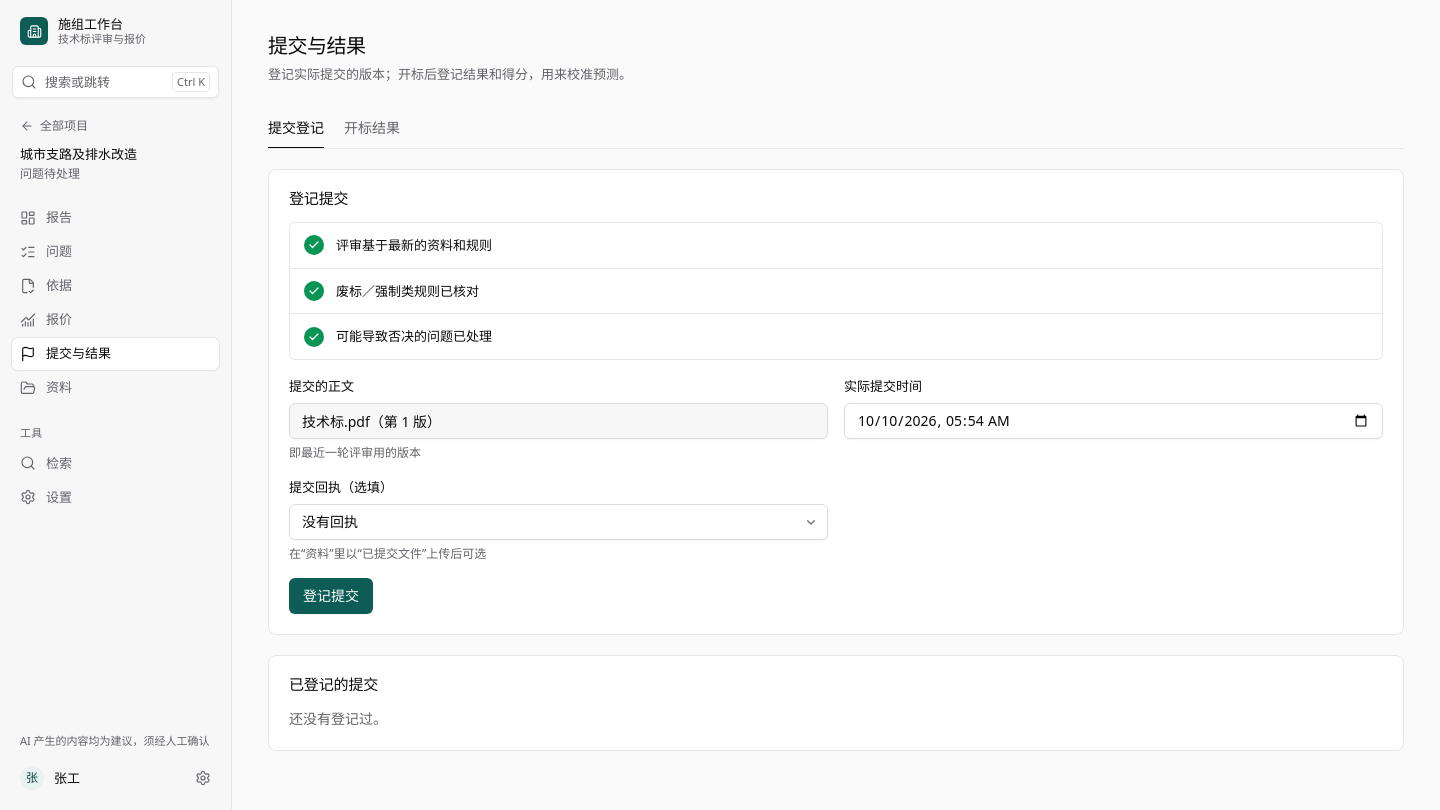
Test: 提交与结果页：登记提交 › 请求体符合 SubmissionRequest：正文与输入取最近一轮评审，不让用户另选
Expected: the field labelled "提交的正文" holds "技术标.pdf（第 1 版）", [289, 403, 828, 439]
Replace the text in the field labelled "实际提交时间" with "2026-10-05T10:00" at (1114, 421), box [844, 403, 1383, 439]
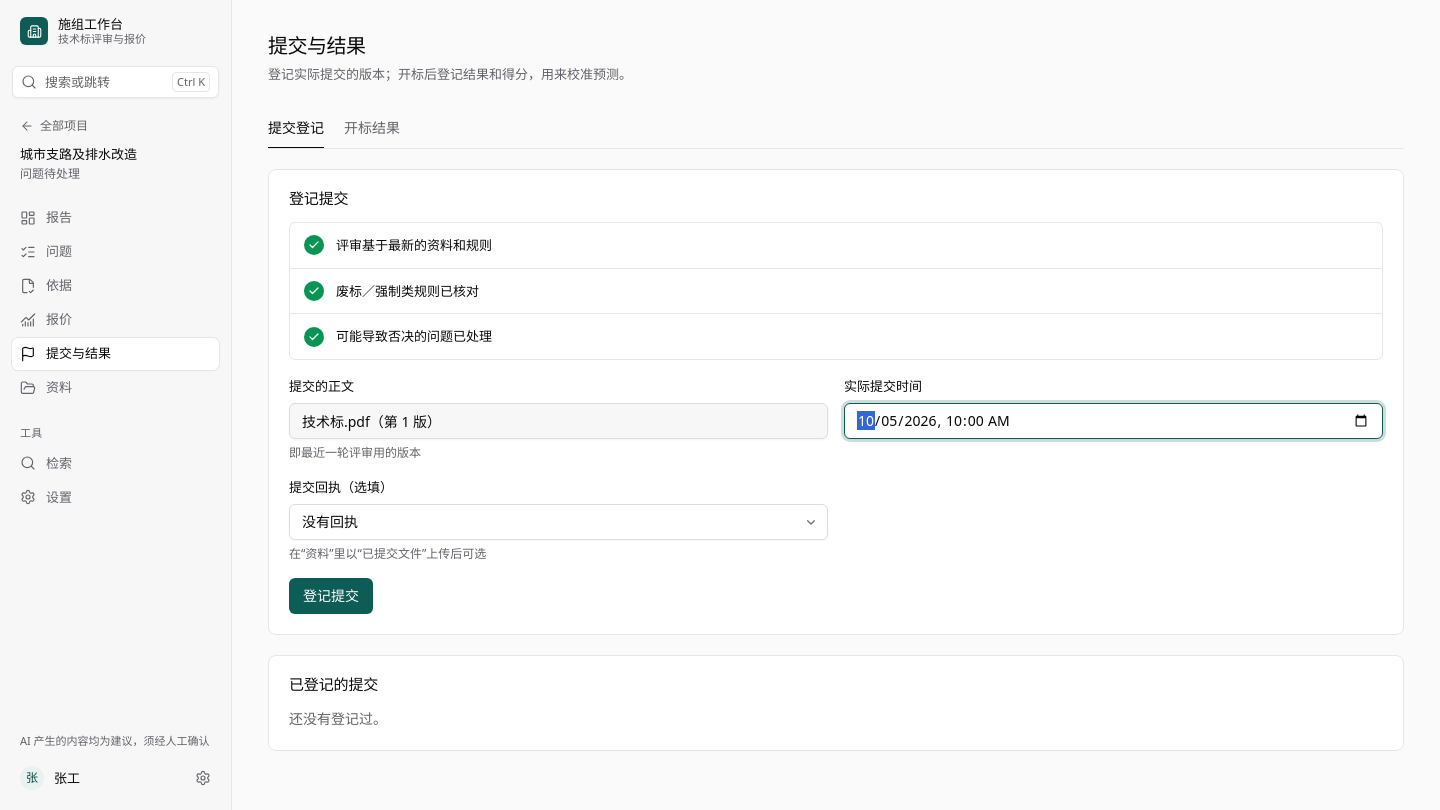
Click the button "登记提交".
click(331, 596)  # box [289, 578, 373, 614]
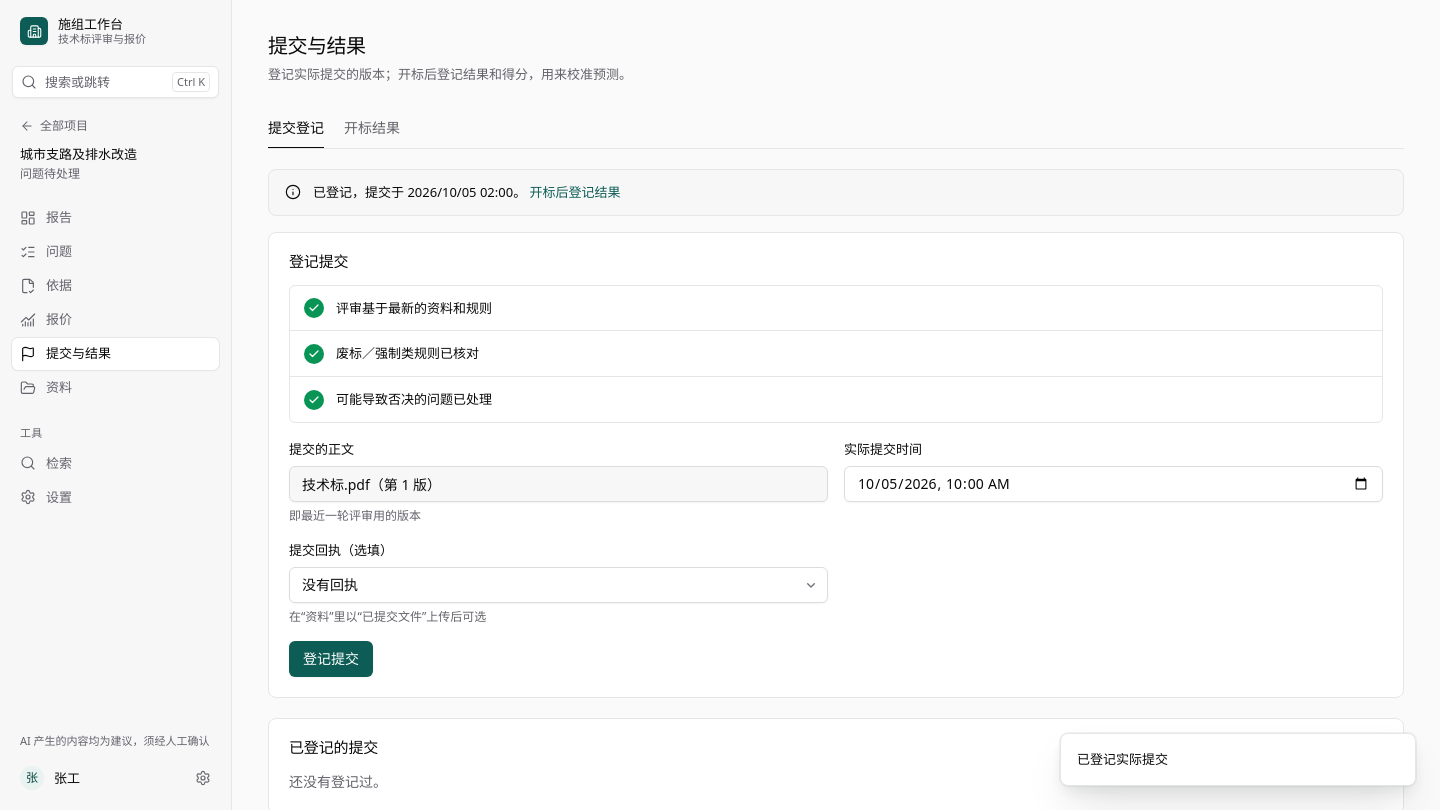
Result: the text "已登记实际提交" is shown at [1077, 750, 1168, 769]
